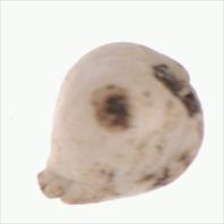L3: (36, 162, 74, 202)
L4: (37, 42, 205, 205)
